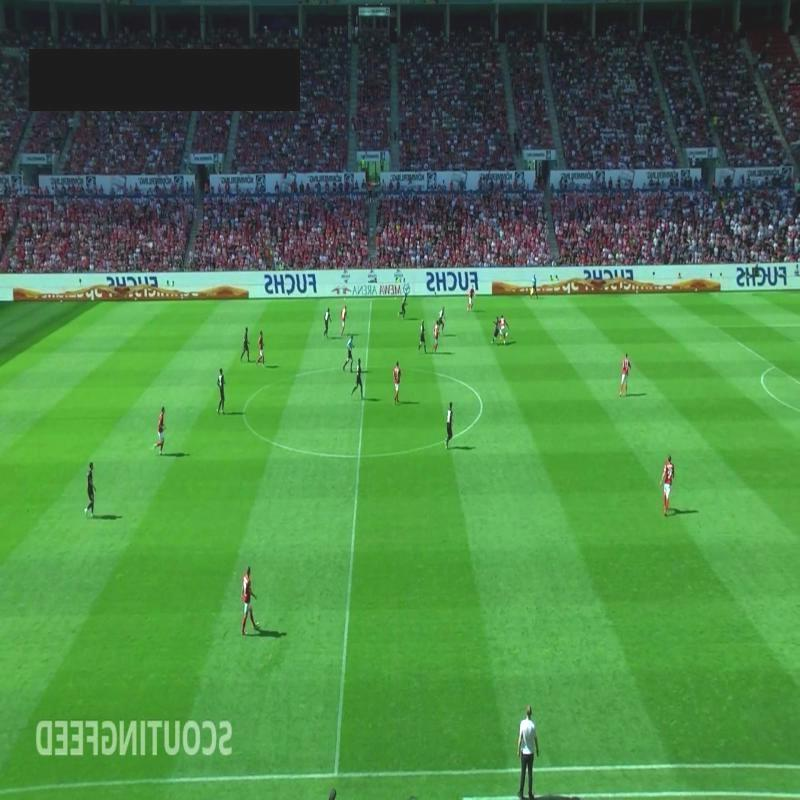10: (767, 360, 781, 374)
13: (365, 292, 379, 306)
14: (356, 362, 370, 376)
15: (354, 447, 368, 461)
16: (324, 762, 344, 785)
9: (710, 320, 724, 334)
c: (474, 396, 490, 416), (238, 404, 251, 418)
